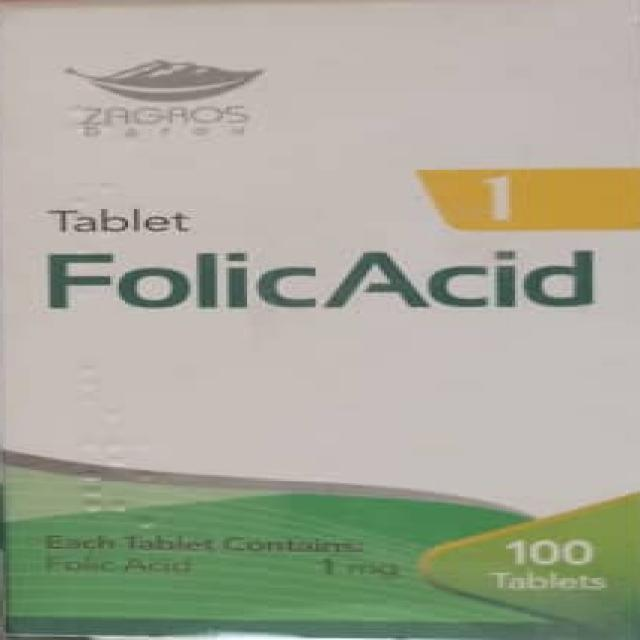drug-name: (26, 241, 608, 321)
